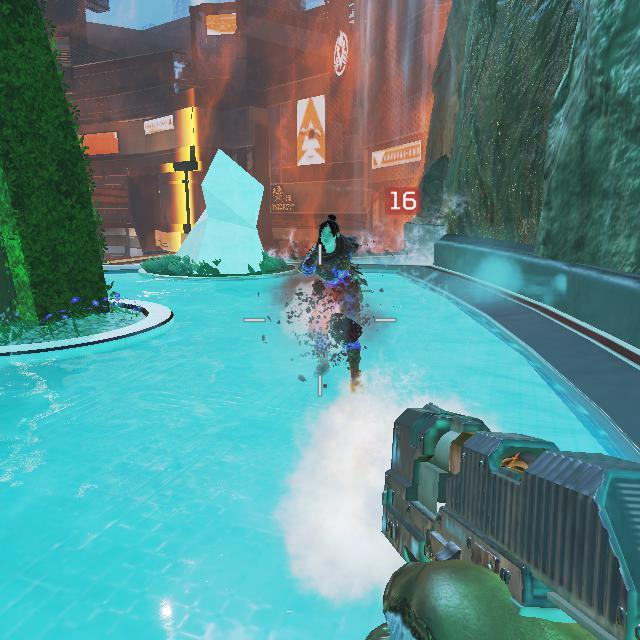avatar: (301, 213, 365, 398)
